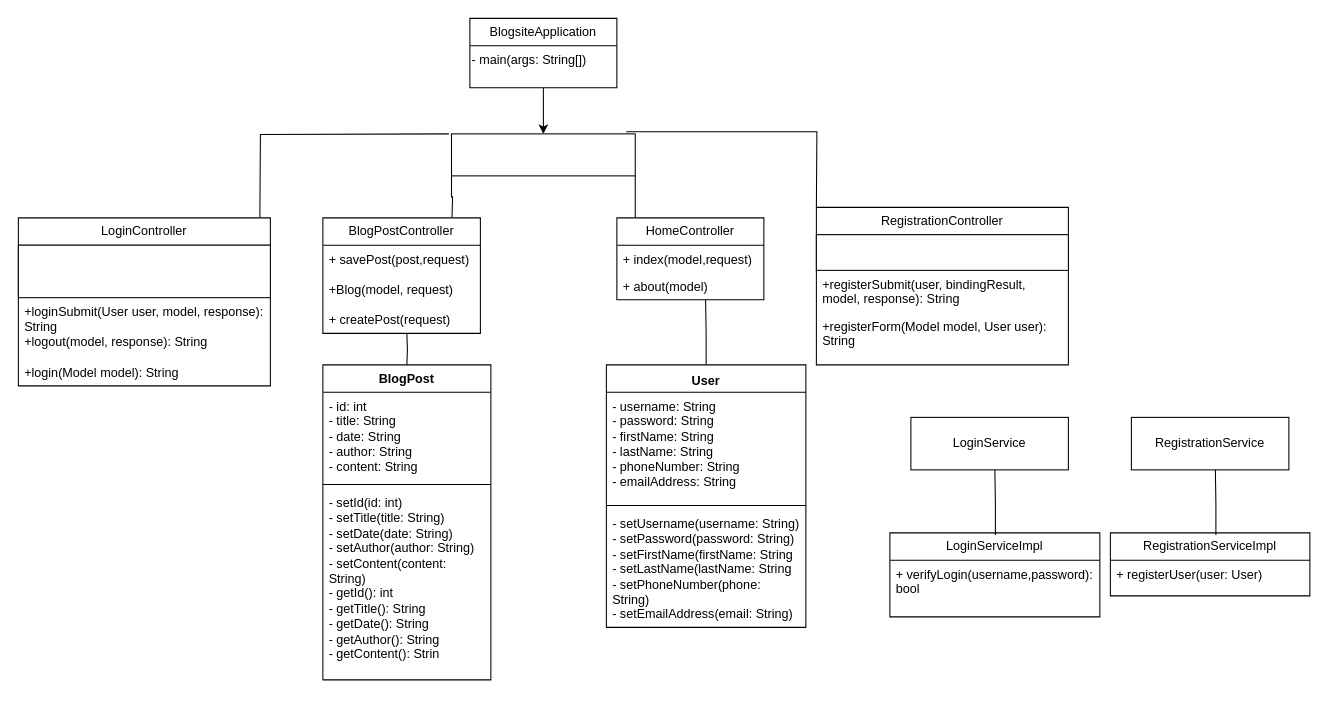
Some shapes in this 1328 by 701 pixel diagram are drawn without their labels. The centre of each missing label's shape, as x and y in pixels:
-loginService: LoginService: the point at 143,271
-registrationService: RegistrationService: the point at 941,252
Controller Classes: the point at 542,154
